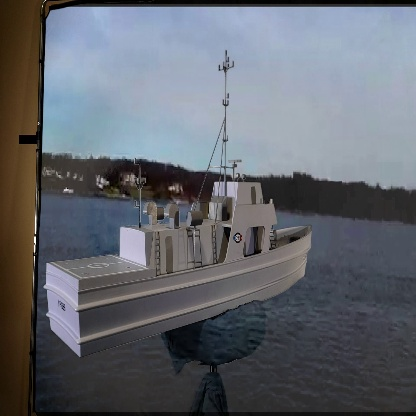YP689: (41, 44, 312, 366)
